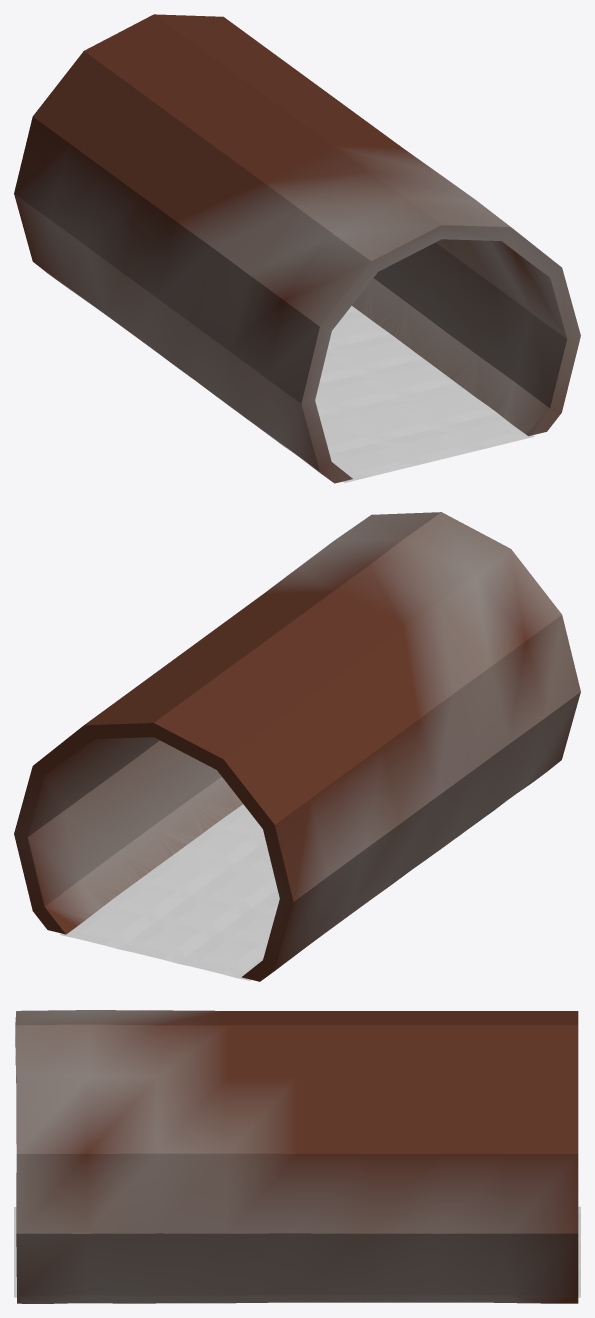
Rendered from Tunnel vierge(4).fbx.
3 renders of one model, top to bottom at view 1: azimuth 30°, elevation 25°; view 2: azimuth 150°, elevation 25°; view 3: azimuth 270°, elevation 25°, orthographic. The views are drawn at different scales.
Visible parts, largest first — view 1: Cylindre 5, Cylindre 4; view 2: Cylindre 5, Cylindre 4; view 3: Cylindre 5, Cylindre 4.
Boxes of the visible parts, x1,y1,x2,y2 form: Cylindre 5: [14, 14, 580, 483]; Cylindre 4: [315, 306, 534, 482]; Cylindre 5: [14, 512, 580, 981]; Cylindre 4: [60, 804, 279, 980]; Cylindre 5: [15, 1010, 578, 1303]; Cylindre 4: [14, 1206, 580, 1297].
Size of the model in its own units: 4.55 by 3.65 by 8.18.
